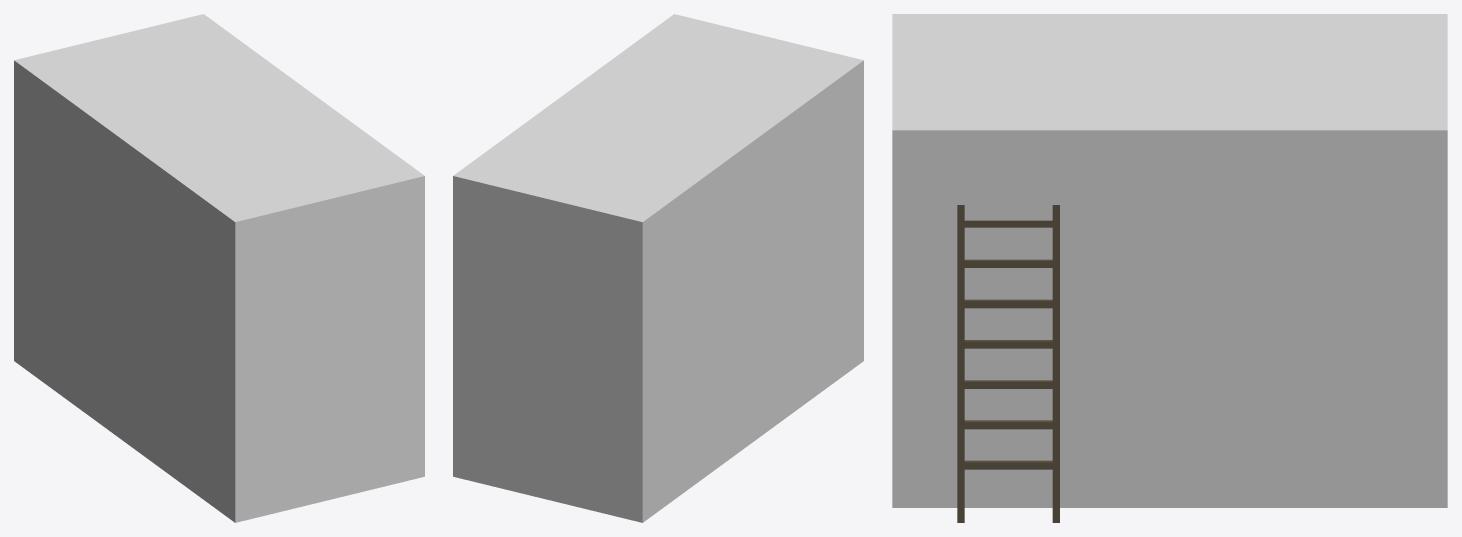
Rendered from Bed.gltf.
3 views of the same model, side by side, from view 1: azimuth 30°, elevation 25°; view 2: azimuth 150°, elevation 25°; view 3: azimuth 270°, elevation 25° (orthographic). The views are drawn at different scales.
Parts seen in each view (by area): view 1: COL01; view 2: COL01; view 3: COL01, Bed.
Part boxes in pixels (x1=…): COL01: x1=14, y1=14, x2=424, y2=522; COL01: x1=453, y1=14, x2=863, y2=522; COL01: x1=892, y1=14, x2=1447, y2=507; Bed: x1=957, y1=205, x2=1059, y2=522.
Size of the model in its own units: 2.19 by 3.03 by 4.
